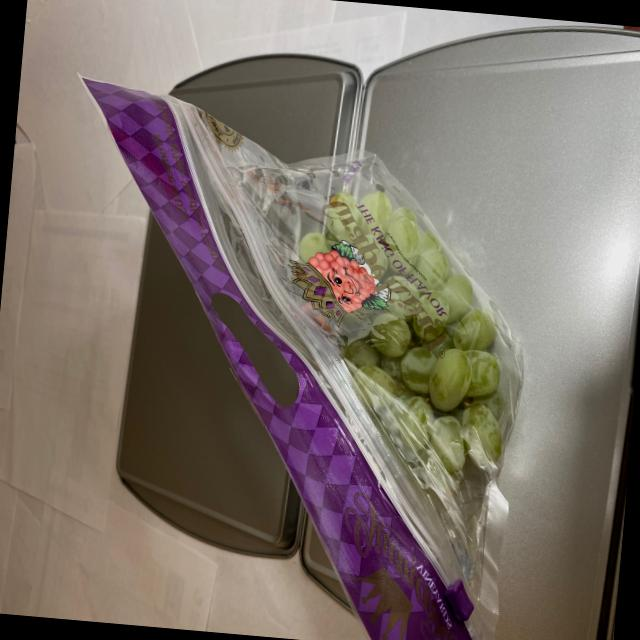grapes: (264, 182, 542, 498)
